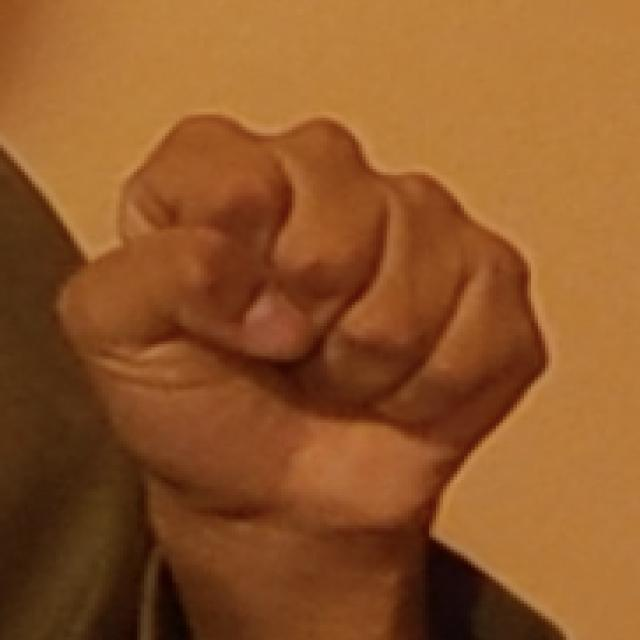S: (50, 105, 553, 535)
